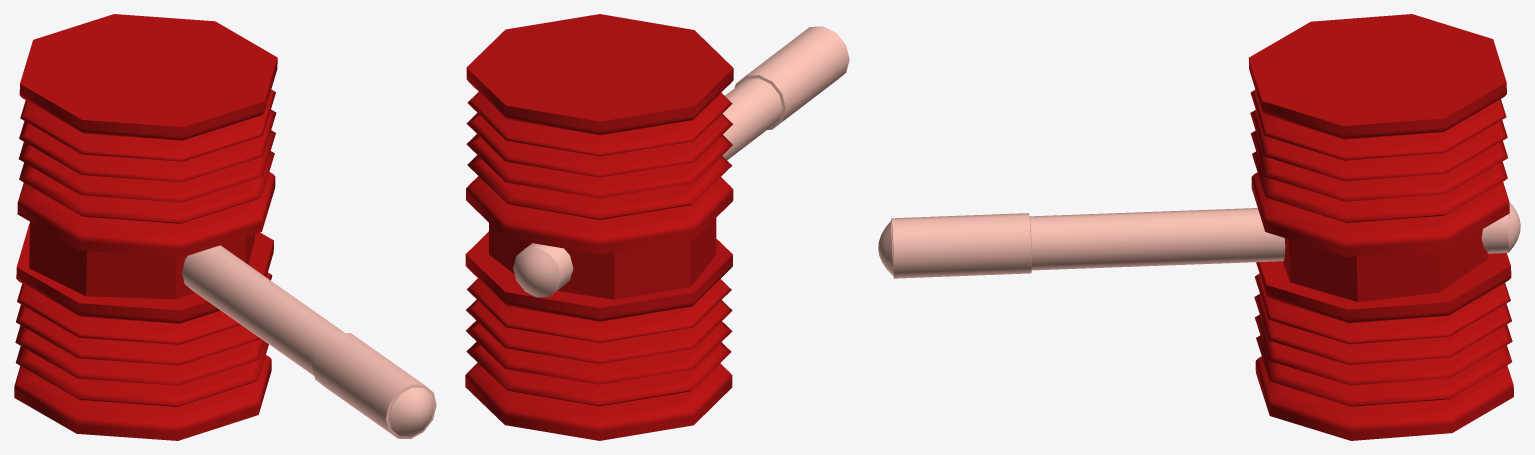
Rendered from hammer.FBX.
3 renders of one model, left to right at view 1: azimuth 30°, elevation 25°; view 2: azimuth 150°, elevation 25°; view 3: azimuth 270°, elevation 25°, orthographic.
Parts seen in each view (by area): view 1: Hose002, Hose001, OilTank001, Gengon001, OilTank002; view 2: Hose002, Hose001, Gengon001, OilTank001, OilTank002; view 3: Hose002, Hose001, OilTank001, OilTank002, Gengon001.
Boxes of the visible parts, x1,y1,x2,y2 form: Hose002: (17,14,277,257); Hose001: (14,223,273,440); OilTank001: (182,245,434,436); Gengon001: (29,222,254,299); OilTank002: (312,332,436,438); Hose002: (466,14,733,254); Hose001: (465,231,732,440); Gengon001: (489,218,716,299); OilTank001: (513,78,782,297); OilTank002: (734,26,849,129); Hose002: (1248,14,1509,256); Hose001: (1254,253,1513,440); OilTank001: (878,202,1520,275); OilTank002: (891,213,1031,278); Gengon001: (1282,229,1487,302).
Bounding box in the file's own units: 36.09 × 49.06 × 88.93.
